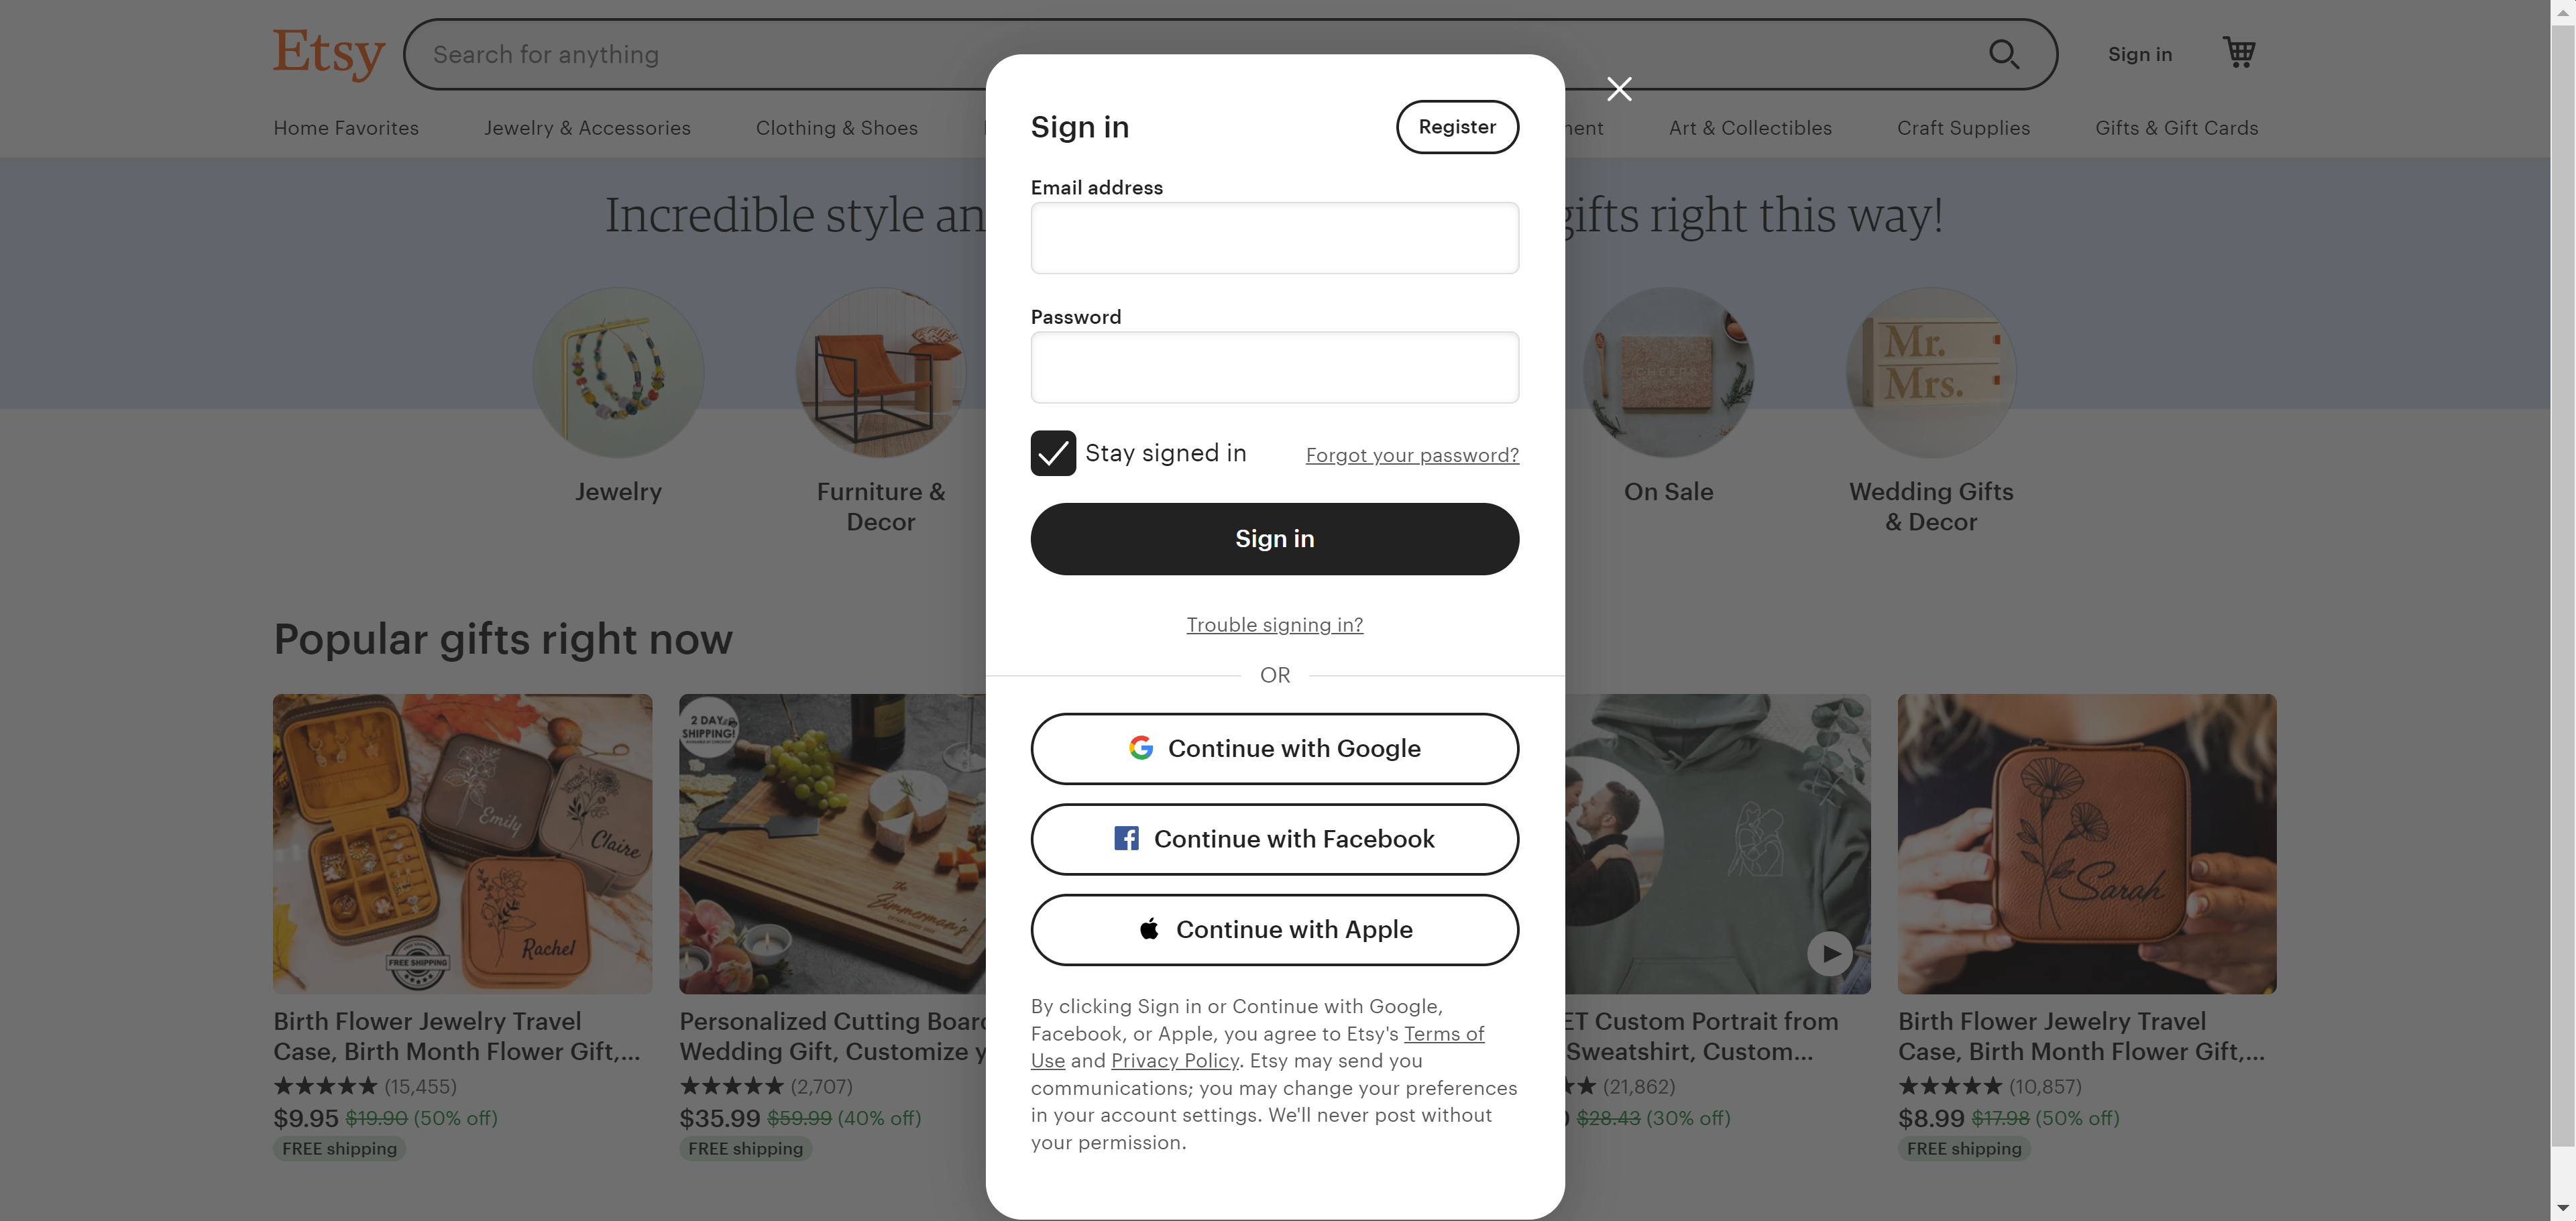login_button: (1030, 503, 1520, 577)
login_form: (1022, 174, 1529, 583)
